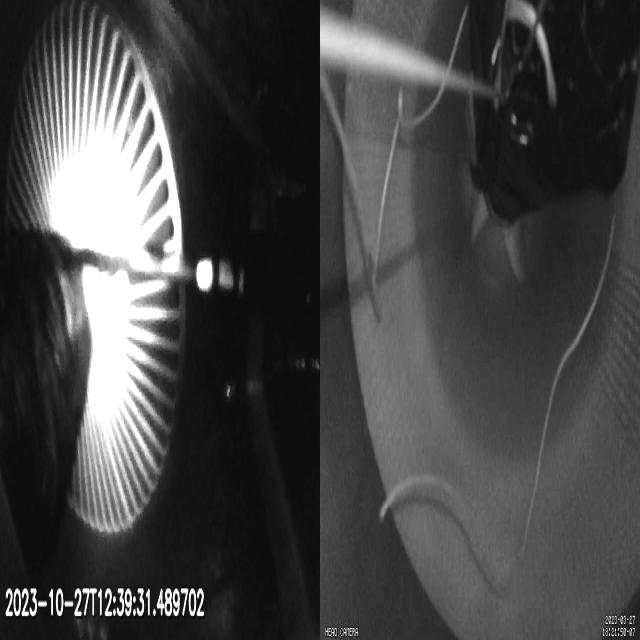white-dots: (197, 258, 245, 294)
